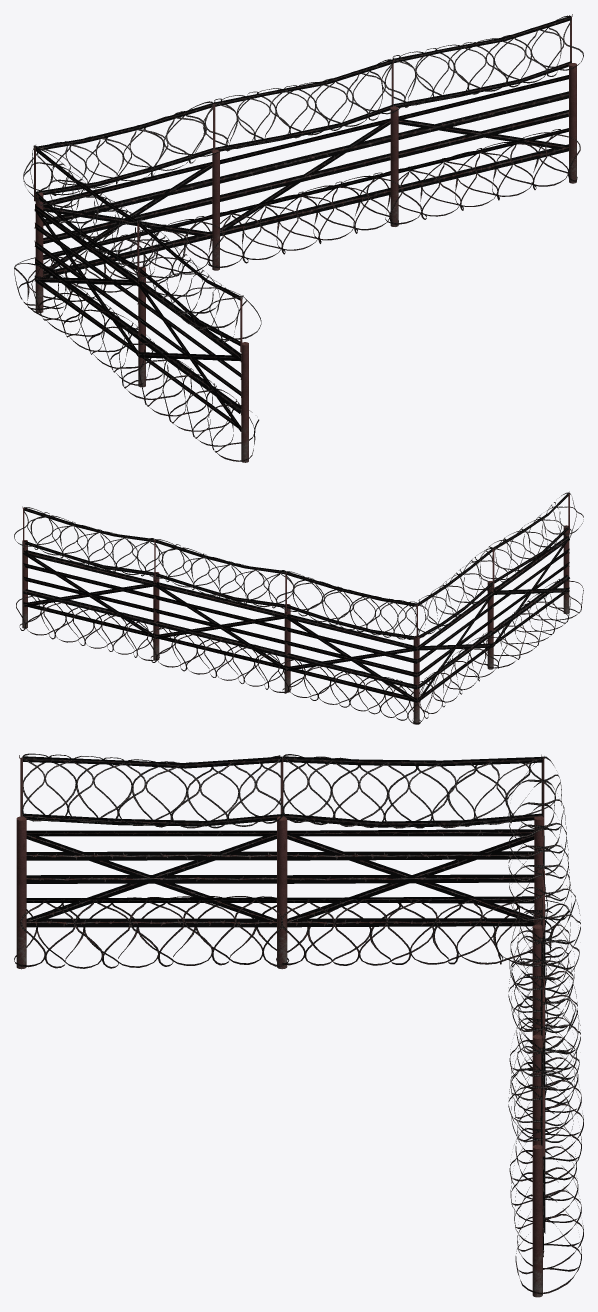
3 views of the same model, one above another, from view 1: azimuth 30°, elevation 25°; view 2: azimuth 150°, elevation 25°; view 3: azimuth 270°, elevation 25° (orthographic). The views are drawn at different scales.
Parts seen in each view (by area): view 1: fence_barbwire_MAT_fence_barbwire_0_1, fence_barbwire_pole_MAT_fence_barbwire_pole_0_1, fence_barbwire_MAT_fence_barbwire_0_2; view 2: fence_barbwire_MAT_fence_barbwire_0_1, fence_barbwire_pole_MAT_fence_barbwire_pole_0_1, fence_barbwire_MAT_fence_barbwire_0_2; view 3: fence_barbwire_MAT_fence_barbwire_0_1, fence_barbwire_pole_MAT_fence_barbwire_pole_0_1, fence_barbwire_MAT_fence_barbwire_0_2.
Part boxes in pixels (bbox=[...]): fence_barbwire_MAT_fence_barbwire_0_1: bbox=[14, 15, 583, 461]; fence_barbwire_pole_MAT_fence_barbwire_pole_0_1: bbox=[34, 14, 576, 462]; fence_barbwire_MAT_fence_barbwire_0_2: bbox=[29, 70, 577, 445]; fence_barbwire_MAT_fence_barbwire_0_1: bbox=[14, 492, 583, 724]; fence_barbwire_pole_MAT_fence_barbwire_pole_0_1: bbox=[22, 491, 569, 722]; fence_barbwire_MAT_fence_barbwire_0_2: bbox=[20, 545, 550, 723]; fence_barbwire_MAT_fence_barbwire_0_1: bbox=[14, 753, 583, 1294]; fence_barbwire_pole_MAT_fence_barbwire_pole_0_1: bbox=[16, 754, 544, 1297]; fence_barbwire_MAT_fence_barbwire_0_2: bbox=[96, 819, 552, 1294].
Size of the model in its own units: 1115 by 311 by 766.
Materials: 2 (2 with a texture image).
